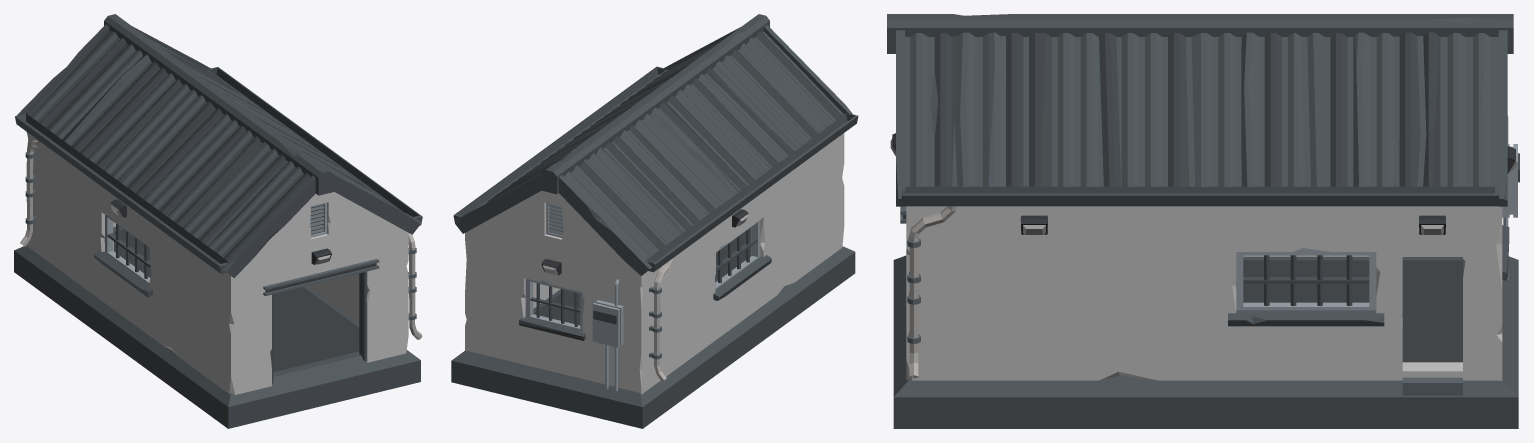
The model's file is SM_Bld_SingleGarage_01.fbx.
The picture shows the model from 3 angles, left to right: view 1: azimuth 30°, elevation 25°; view 2: azimuth 150°, elevation 25°; view 3: azimuth 270°, elevation 25°; orthographic projection. The views are drawn at different scales.
Parts seen in each view (by area): view 1: SM_Bld_SingleGarage_01; view 2: SM_Bld_SingleGarage_01; view 3: SM_Bld_SingleGarage_01.
Boxes of the visible parts, <box> form: SM_Bld_SingleGarage_01: <box>14,14,422,428</box>; SM_Bld_SingleGarage_01: <box>451,14,858,428</box>; SM_Bld_SingleGarage_01: <box>887,14,1519,428</box>.
Bounding box in the file's own units: 595 × 638 × 1066.
